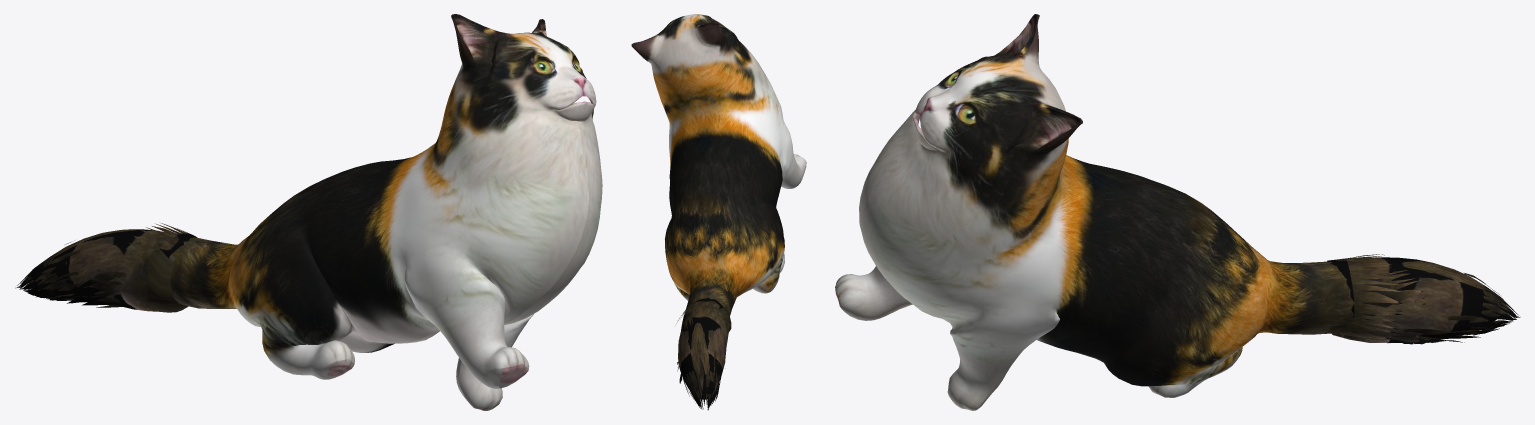
The model's file is munchkin.glb.
3 views of the same model, side by side, from view 1: azimuth 30°, elevation 25°; view 2: azimuth 150°, elevation 25°; view 3: azimuth 270°, elevation 25° (orthographic). The views are drawn at different scales.
Size of the model in its own units: 0.875 by 0.996 by 1.51.
1 material, 1 textured.
